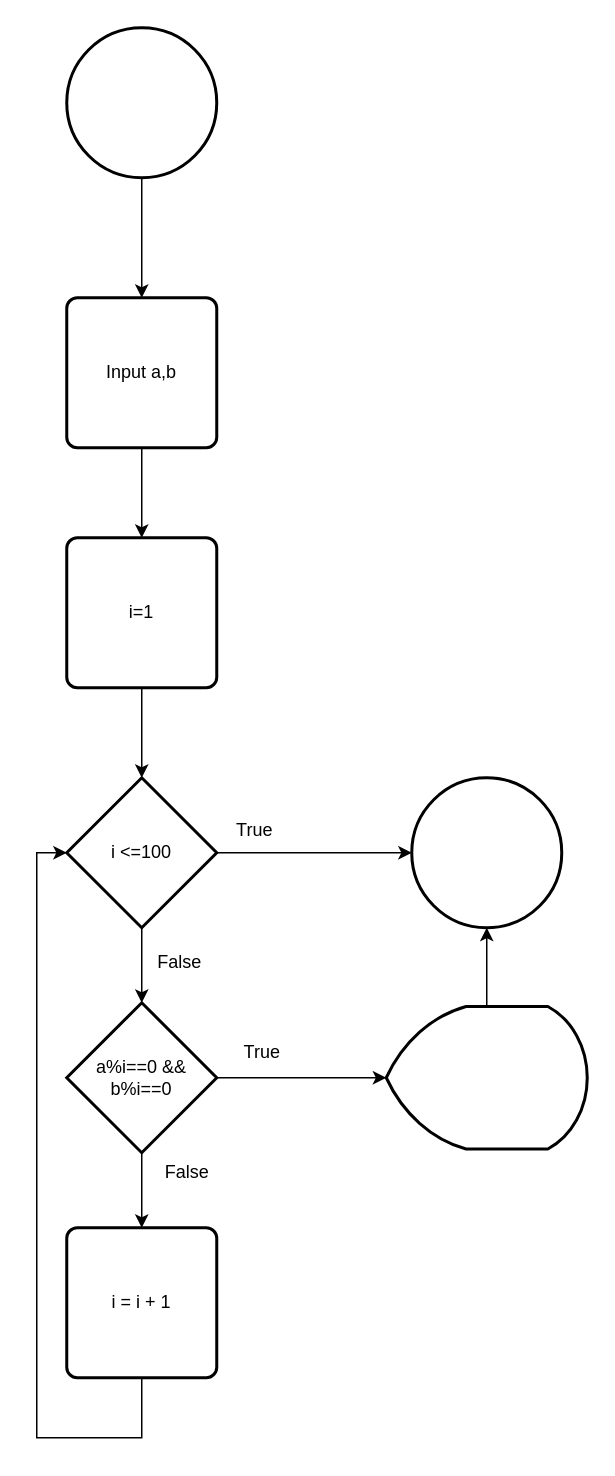
This 615x1476 diagram has some shape labels left out. The box of each missing label's shape, as (x1, y1, x2, y2) in pixels:
END: (410, 776, 562, 928)
Print " Bội chung nhỏ nhất của 2 số là i": (384, 1004, 588, 1150)
START: (64, 26, 218, 178)
